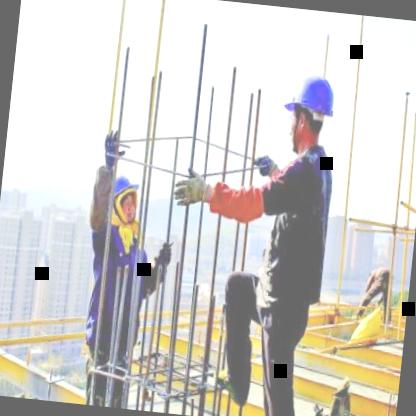helmet: (280, 66, 340, 158), (109, 170, 142, 232)
